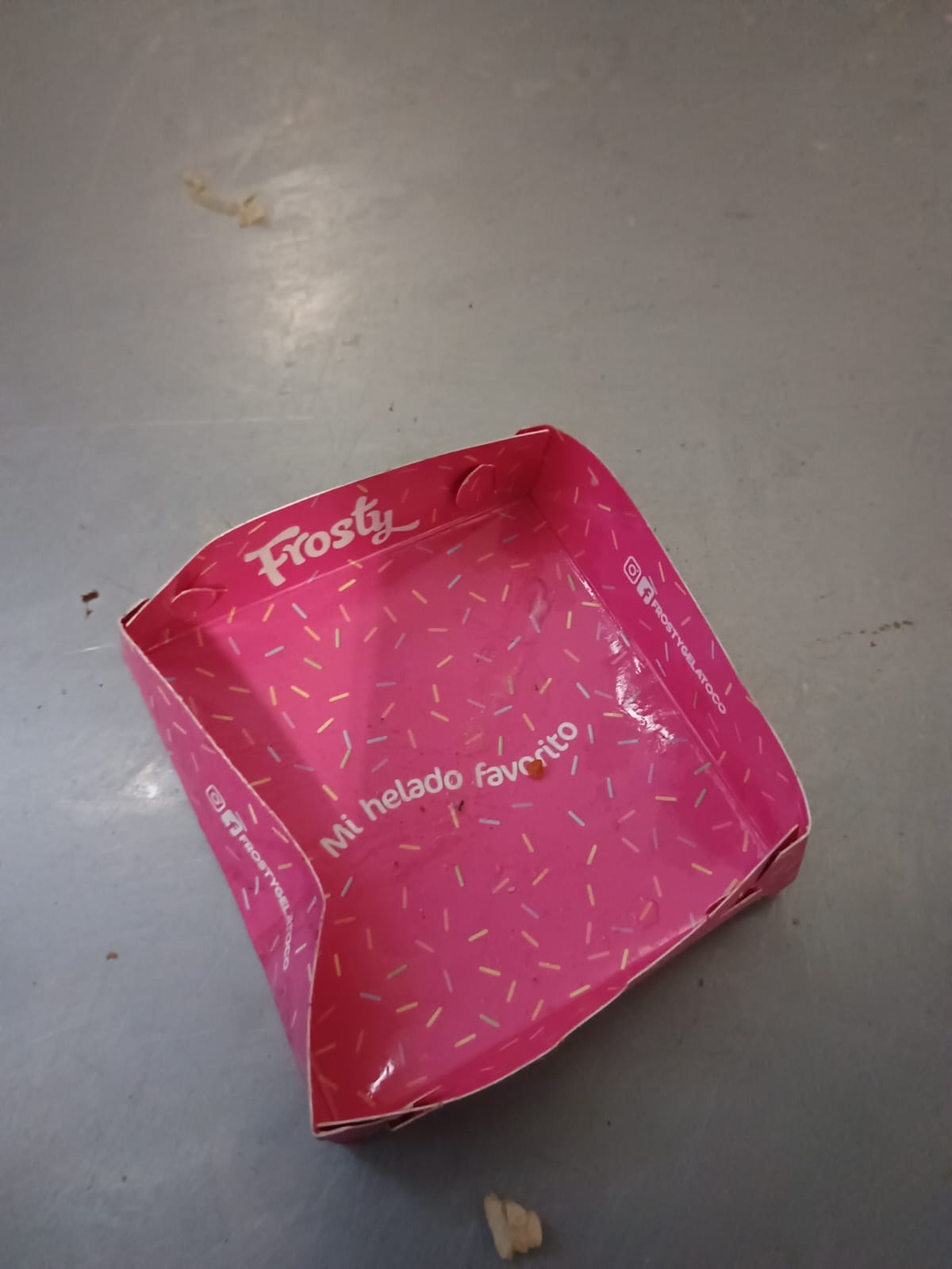Carton: (115, 428, 809, 1147)
